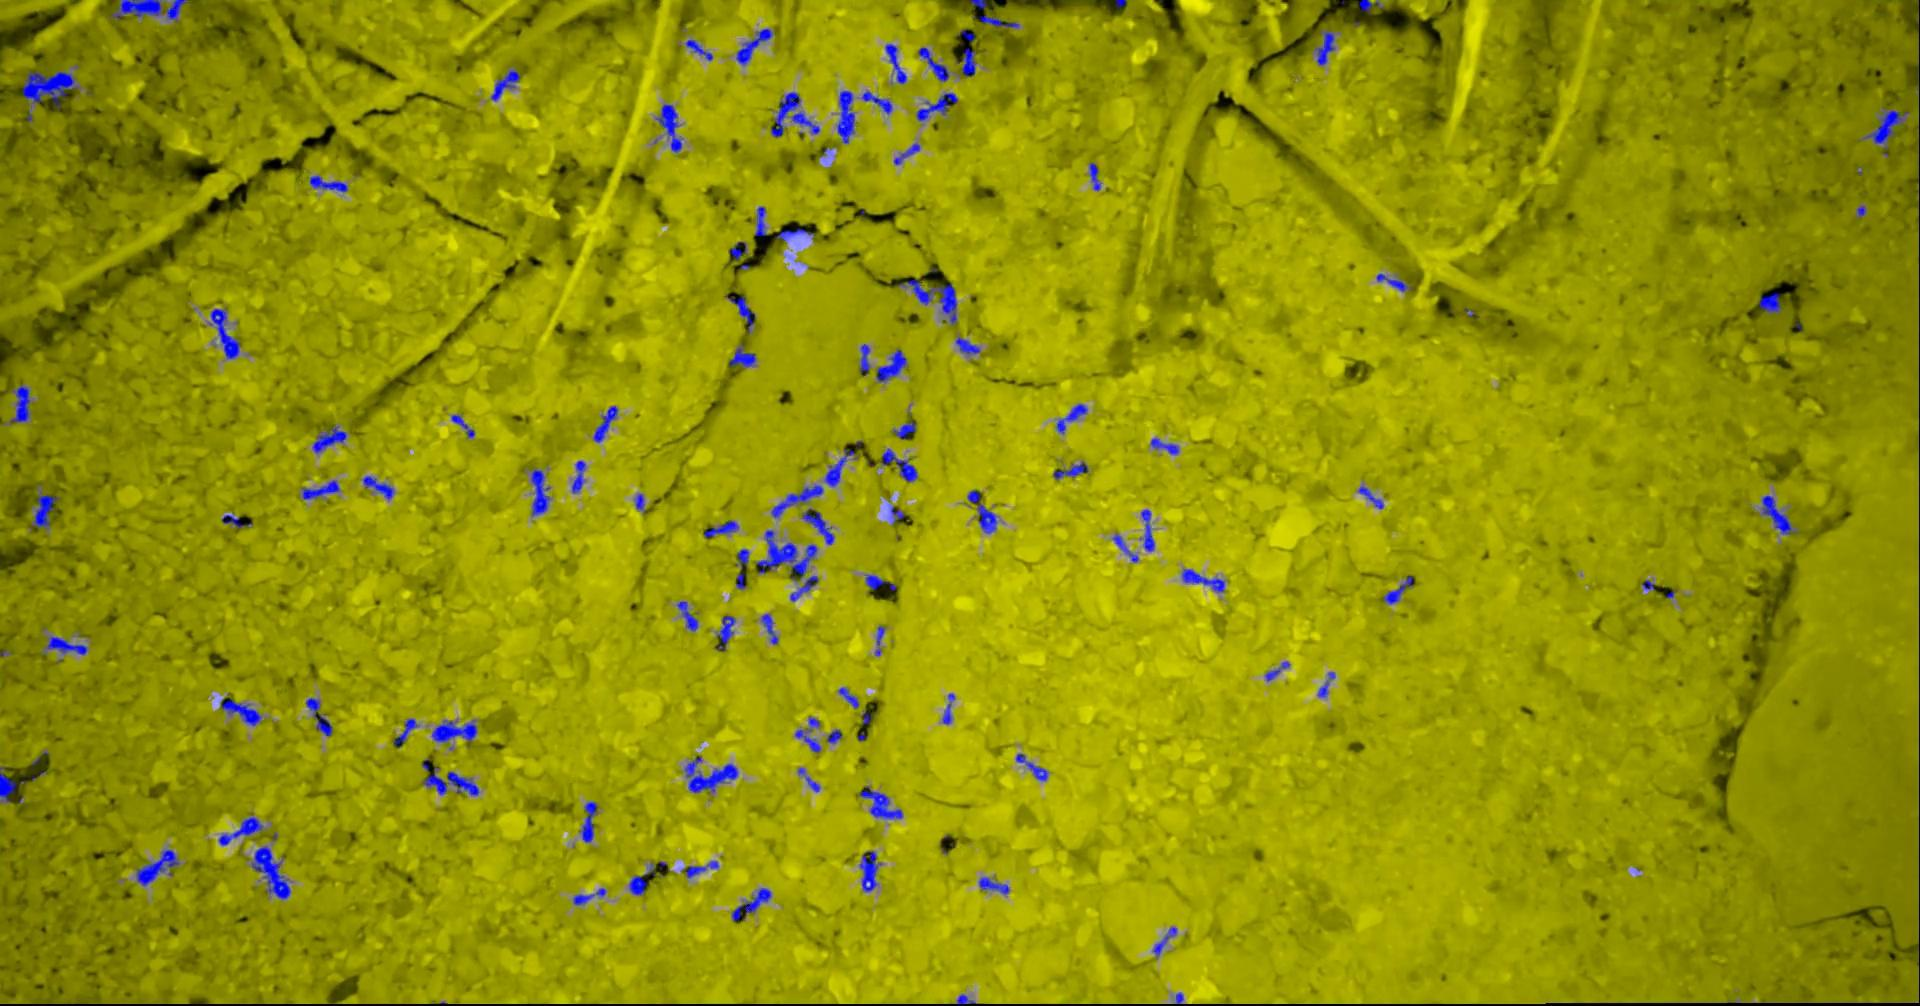ant: (899, 279, 957, 323), (772, 91, 822, 136), (253, 846, 292, 899), (1865, 111, 1911, 155), (686, 756, 739, 793), (772, 484, 825, 517), (110, 0, 190, 22), (210, 307, 243, 358), (424, 766, 481, 795), (137, 848, 180, 885), (860, 785, 904, 818), (1763, 495, 1801, 533), (737, 28, 775, 64), (733, 887, 772, 921), (220, 815, 265, 845), (969, 489, 998, 533), (825, 448, 858, 486), (657, 104, 683, 151), (883, 448, 919, 481), (433, 719, 477, 746), (918, 91, 959, 119), (804, 508, 836, 544), (222, 697, 262, 725), (728, 295, 757, 332), (919, 47, 950, 81), (307, 697, 334, 735), (1057, 403, 1090, 433), (877, 349, 908, 381), (314, 426, 348, 453), (1183, 568, 1225, 591), (838, 90, 856, 144), (491, 69, 521, 100), (532, 467, 551, 514), (34, 494, 61, 527), (630, 862, 657, 895), (861, 850, 883, 890), (1017, 753, 1049, 780), (1385, 575, 1415, 603), (596, 406, 618, 442), (888, 43, 908, 83), (303, 479, 342, 499), (11, 384, 30, 423), (1114, 533, 1140, 561), (582, 800, 599, 842), (863, 90, 894, 114), (364, 475, 395, 499), (48, 636, 89, 654), (716, 615, 737, 649), (395, 718, 419, 746), (1154, 927, 1178, 955), (1317, 30, 1336, 65), (1378, 273, 1413, 291), (705, 520, 740, 537), (311, 175, 349, 192), (678, 601, 698, 631), (1055, 461, 1090, 479), (683, 860, 720, 876), (1, 766, 18, 801), (574, 887, 607, 904), (1142, 509, 1156, 551), (1360, 485, 1385, 508), (730, 344, 757, 366), (975, 14, 1020, 27), (957, 47, 977, 76), (452, 414, 476, 437), (796, 729, 822, 751), (687, 39, 714, 60), (762, 614, 780, 643), (895, 144, 921, 164), (778, 227, 815, 241), (980, 876, 1011, 893), (1760, 291, 1783, 312), (1266, 661, 1291, 680), (573, 460, 587, 492), (957, 337, 982, 354), (756, 206, 770, 236), (1152, 438, 1180, 453), (223, 514, 254, 528), (841, 687, 860, 708), (943, 694, 956, 724), (895, 420, 917, 438), (1090, 163, 1102, 191), (867, 574, 889, 589), (861, 343, 871, 373), (876, 625, 886, 655), (731, 241, 748, 259), (1360, 0, 1384, 11), (891, 506, 905, 523), (738, 547, 750, 567), (959, 28, 977, 41), (828, 729, 843, 743), (636, 493, 648, 511), (808, 716, 822, 730), (957, 995, 977, 1005), (737, 572, 747, 589), (1319, 680, 1330, 697), (971, 0, 987, 8), (1919, 123, 1920, 183)
